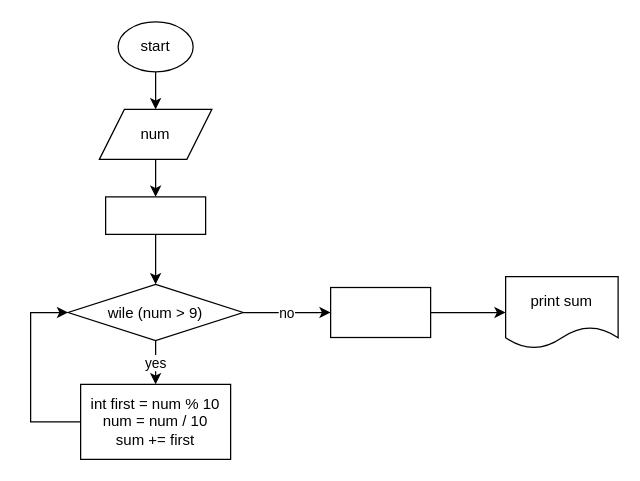
Image size: 640x481. Some labels were removed from this diagram. Here are the shapes that lost their labels. From the top down, the centre of each, then its label:
(x=155, y=215): sum = 0
(x=380, y=312): sum += num
